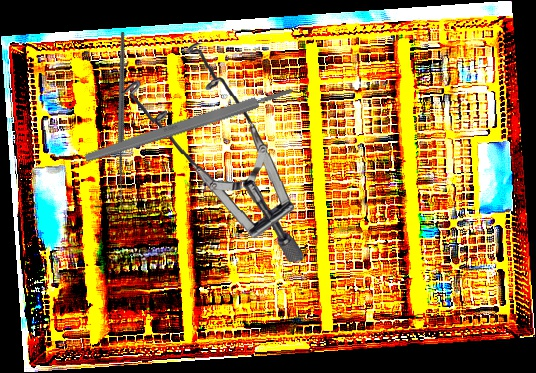Hook Surgical: (43, 30, 208, 212)
Scalpel Handle: (83, 84, 295, 165)
Speculum: (117, 39, 307, 268)
